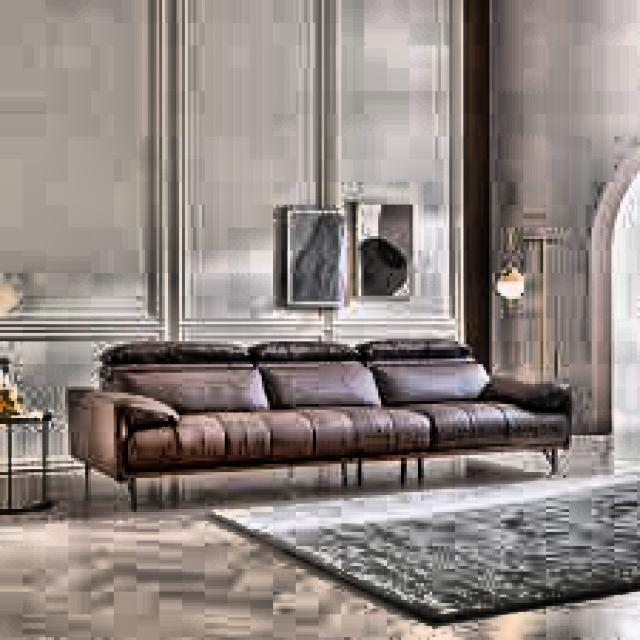sofa: (74, 336, 566, 498)
